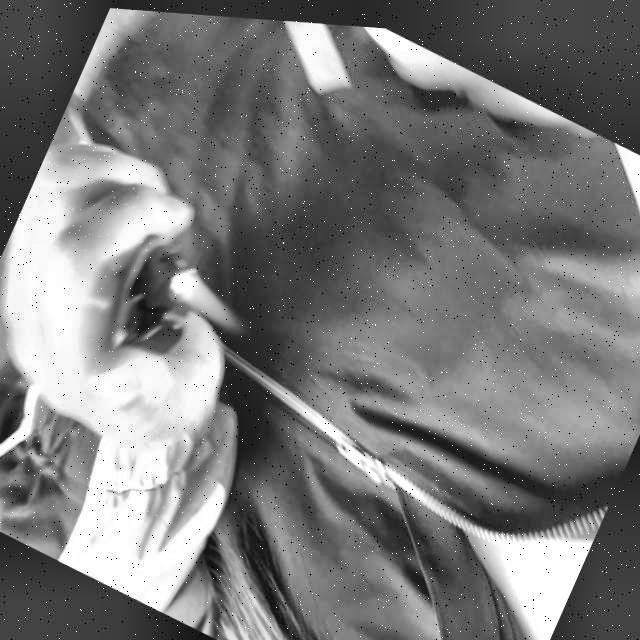Fire: (162, 259, 252, 330)
